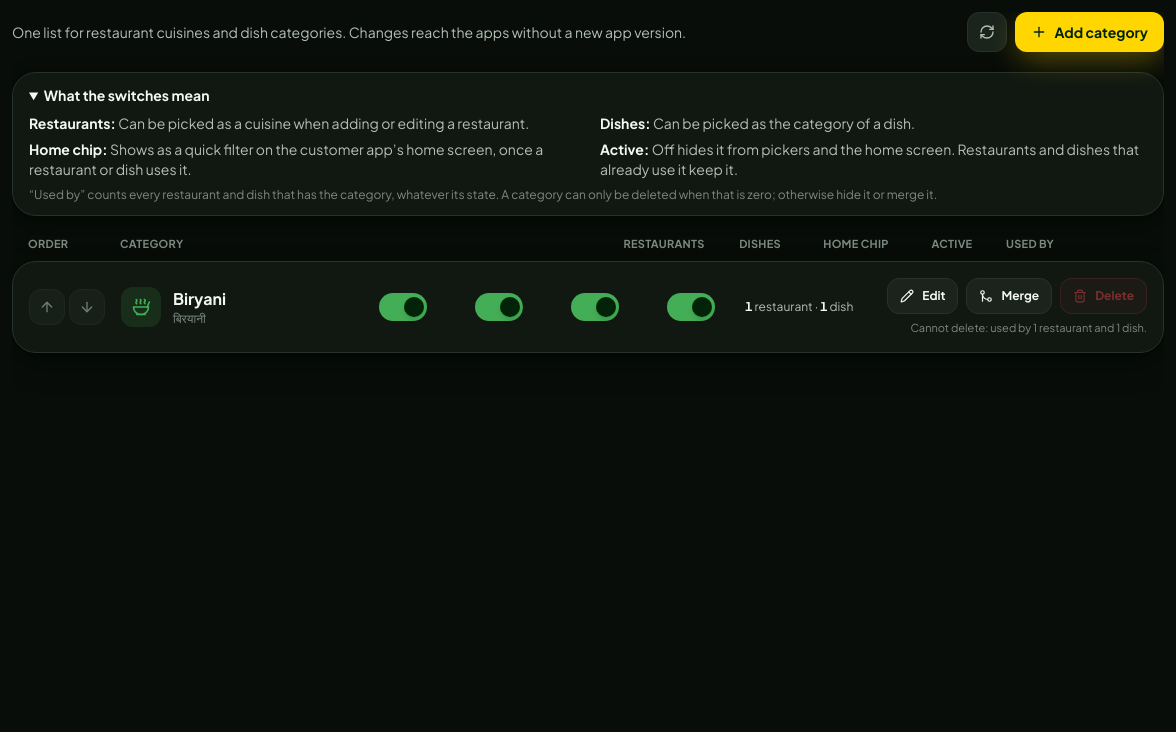
Scenario: switches › a refusal (still in use) keeps the old state, shows the server words and reloads the counts
Click the switch named "Biryani: can be a dish category".
click(499, 307)  # box [475, 293, 523, 321]
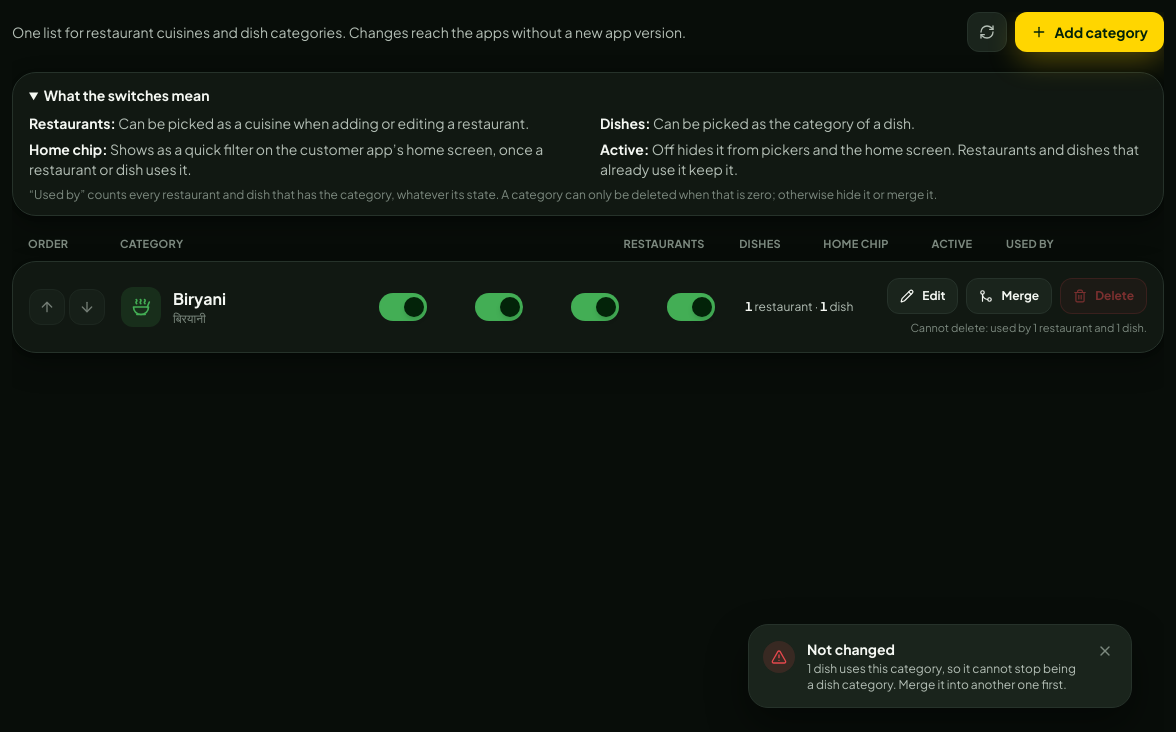
Check: the text "1 dish uses this category" is shown, box [807, 661, 1076, 692]
